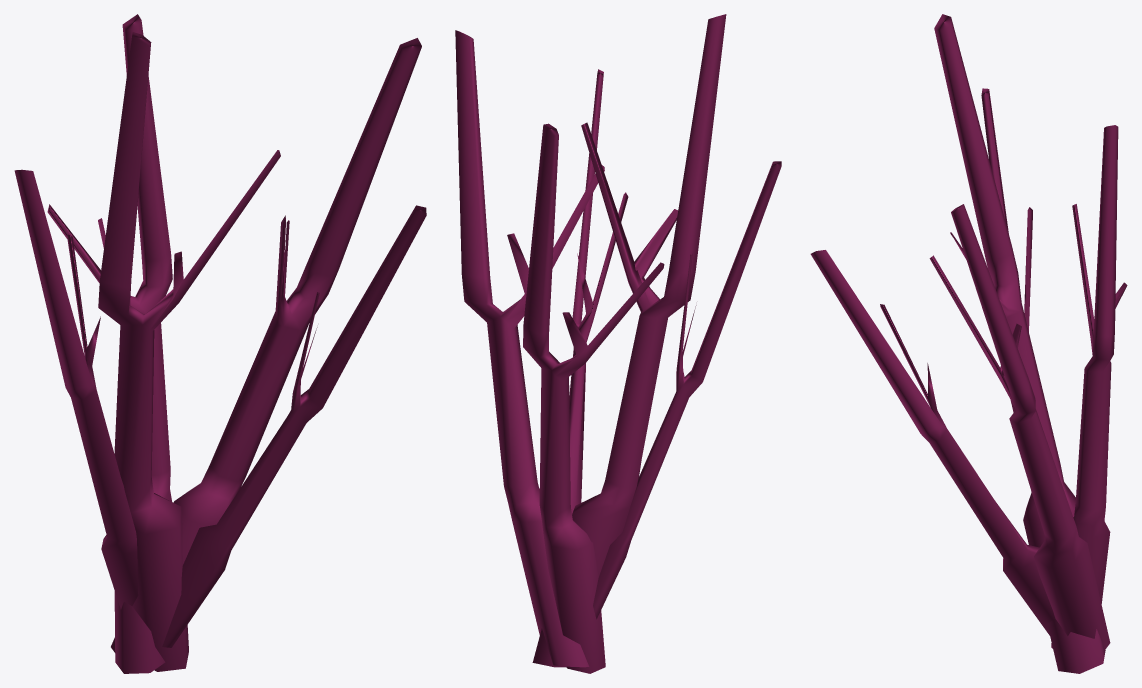
The model's file is Coral04_LP.fbx.
3 views of the same model, side by side, from view 1: azimuth 30°, elevation 25°; view 2: azimuth 150°, elevation 25°; view 3: azimuth 270°, elevation 25° (orthographic). The views are drawn at different scales.
Parts seen in each view (by area): view 1: Coral04; view 2: Coral04; view 3: Coral04.
Part boxes in pixels (x1,y1,x2,y2): Coral04: (14, 14, 426, 673); Coral04: (455, 14, 781, 673); Coral04: (810, 14, 1127, 673).
Size of the model in its own units: 2.33 by 4.09 by 1.94.
